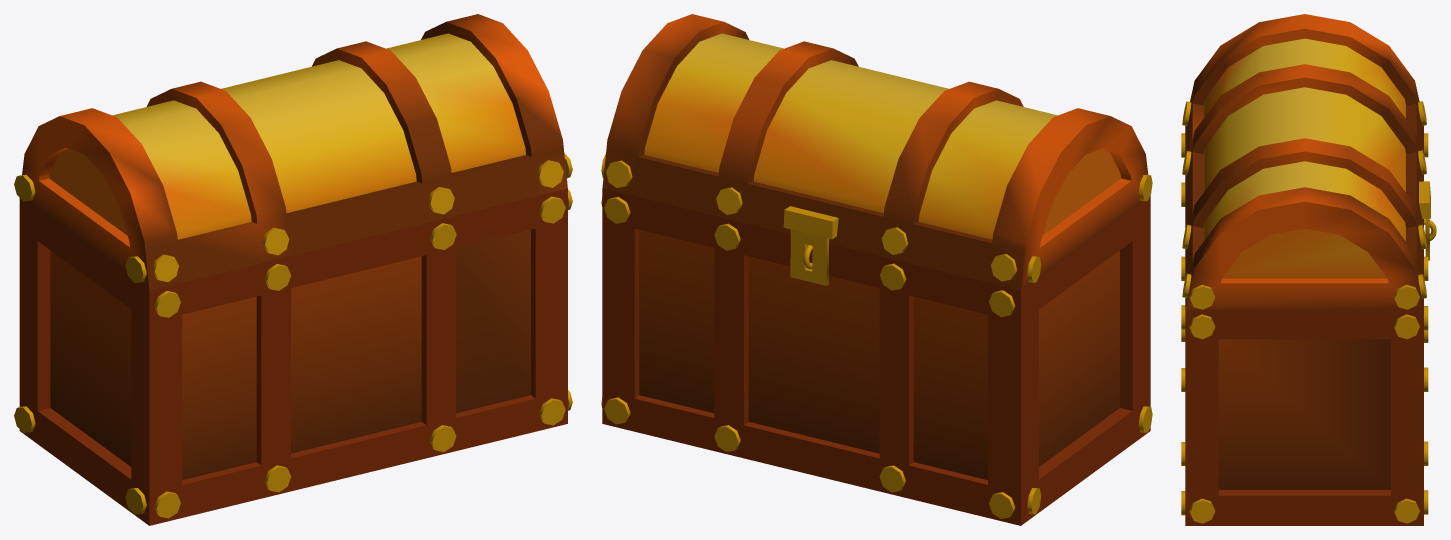
The model's file is chest.fbx.
3 views of the same model, side by side, from view 1: azimuth 30°, elevation 25°; view 2: azimuth 150°, elevation 25°; view 3: azimuth 270°, elevation 25° (orthographic). The views are drawn at different scales.
Parts seen in each view (by area): view 1: chest_vat; view 2: chest_vat; view 3: chest_vat.
Boxes of the visible parts, x1,y1,x2,y2 form: chest_vat: (14,14,572,525); chest_vat: (601,14,1152,525); chest_vat: (1181,14,1436,525).
Bounding box in the file's own units: 405 × 315 × 225.
